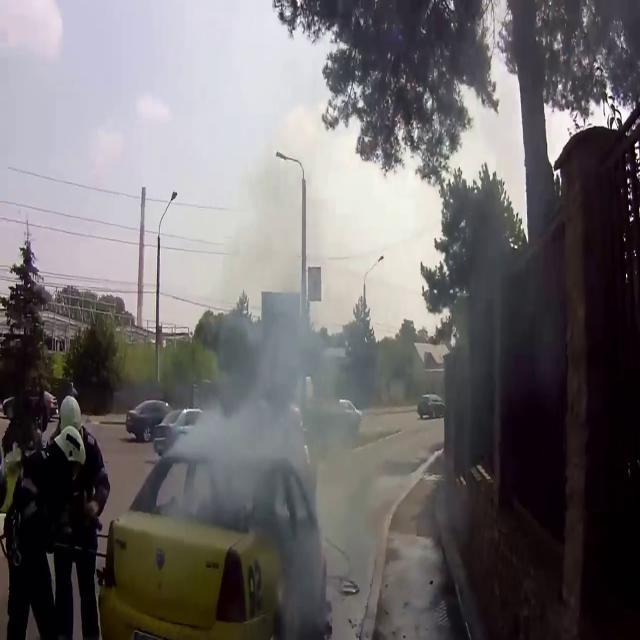Smoke: (187, 143, 556, 602)
